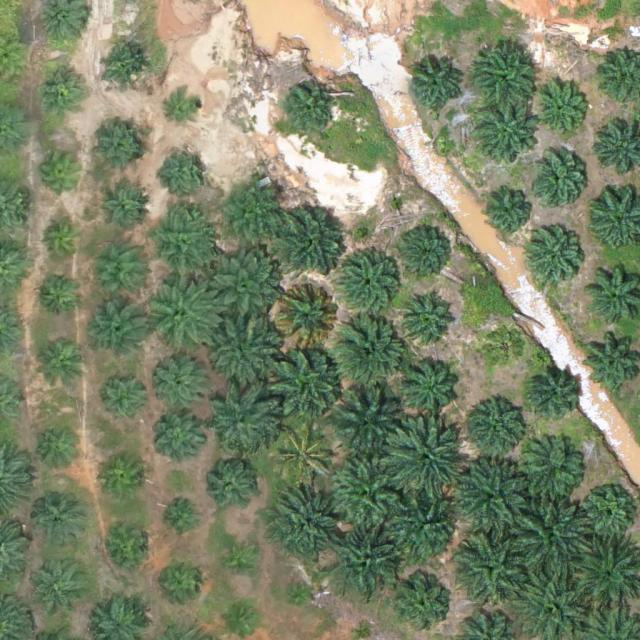Dead: (482, 323, 529, 371)
Grass: (268, 418, 338, 489)
Healthy: (144, 272, 222, 351), (271, 201, 349, 280), (268, 347, 346, 426), (207, 314, 285, 393), (205, 380, 283, 459), (331, 311, 409, 390), (329, 455, 407, 534), (271, 484, 349, 563), (384, 419, 462, 498), (389, 494, 467, 573), (449, 459, 527, 538), (451, 531, 529, 610), (513, 496, 591, 575), (324, 521, 402, 600), (202, 251, 280, 329), (331, 383, 409, 461), (516, 439, 587, 510), (217, 178, 287, 249), (336, 250, 406, 321), (149, 210, 219, 280), (474, 44, 537, 107), (85, 245, 148, 307), (153, 351, 215, 414), (477, 102, 539, 165), (399, 353, 461, 416), (463, 400, 525, 463), (392, 573, 454, 636), (31, 559, 86, 614), (152, 409, 207, 464), (30, 492, 85, 547), (534, 84, 589, 139), (533, 155, 588, 210), (528, 232, 583, 287), (409, 59, 464, 114), (403, 291, 458, 346), (400, 225, 455, 280), (91, 301, 145, 356), (527, 364, 581, 419), (202, 459, 256, 514)
Small: (94, 123, 149, 178), (582, 486, 637, 541), (482, 184, 537, 239), (97, 184, 151, 239), (283, 85, 337, 140), (36, 272, 83, 320), (39, 217, 86, 265), (101, 524, 148, 572), (37, 66, 84, 113), (41, 149, 88, 196), (99, 45, 146, 92), (39, 342, 86, 389), (37, 427, 84, 474), (99, 452, 146, 499), (105, 377, 152, 424), (163, 147, 210, 194), (156, 561, 203, 608), (220, 543, 260, 583), (162, 495, 201, 535), (166, 90, 205, 129), (283, 579, 314, 610)
Yellow: (272, 281, 343, 352)
